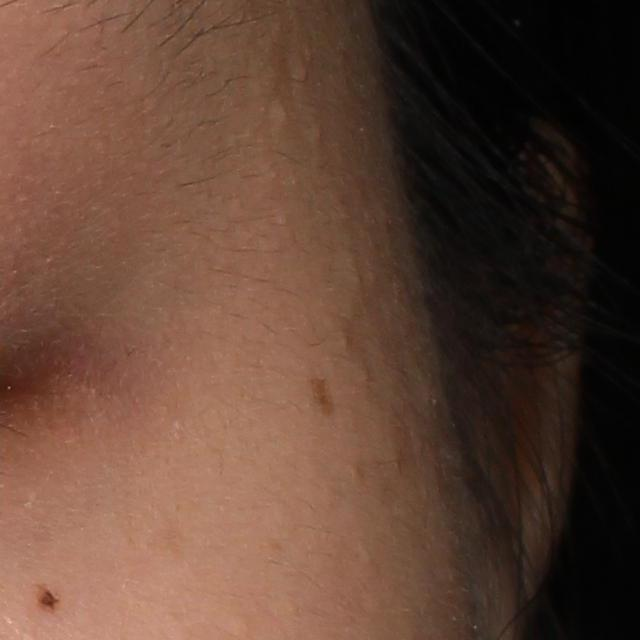comedo: (272, 98, 292, 128)
melasma: (309, 372, 334, 422)
nevus: (36, 579, 59, 613)
